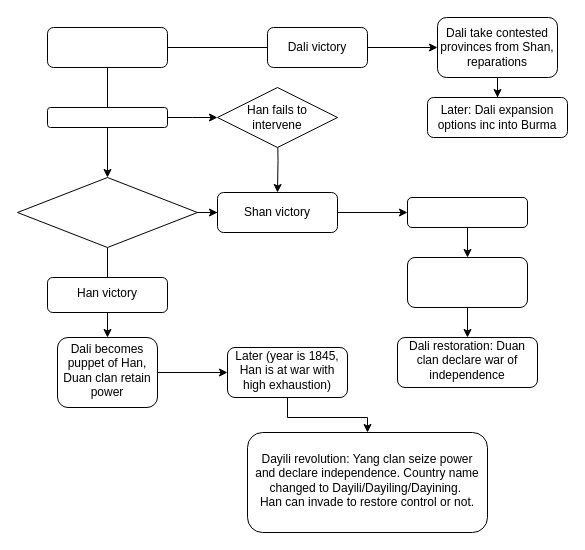
The diagram is 585 pixels wide and 550 high, and some of its shapes have lost their labels. The centre of each missing label's shape, as x and y in pixels:
"1836: Dali-Shan War" belongs at point 107,47.
"Han intervention against Shan" belongs at point 107,212.
"Later (year is 1841, Shan are at war with high exhaustion)" belongs at point 467,282.
"Shan annex Dali" belongs at point 467,212.
"Shan victory (initial)" belongs at point 107,117.
